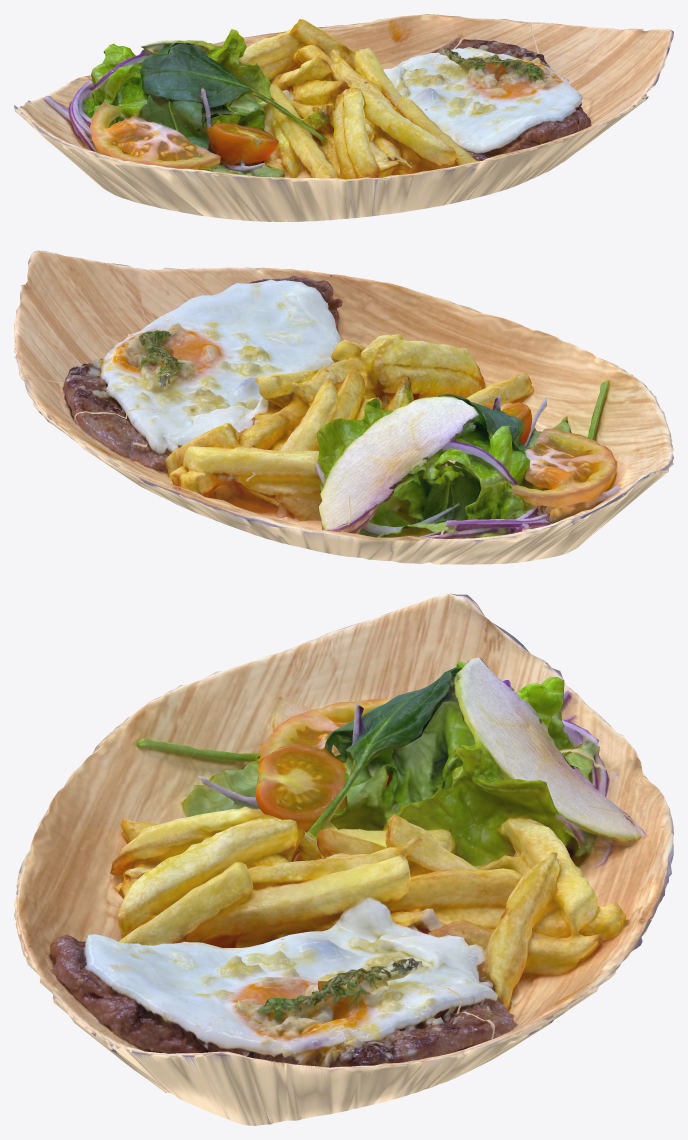
File: BitakKid.glb
3 views of the same model, one above another, from view 1: azimuth 30°, elevation 25°; view 2: azimuth 150°, elevation 25°; view 3: azimuth 270°, elevation 25° (orthographic). The views are drawn at different scales.
Parts seen in each view (by area): view 1: Mesh_0; view 2: Mesh_0; view 3: Mesh_0.
Part boxes in pixels (box(x1,y1,x2,y2)): Mesh_0: box(14, 14, 673, 221); Mesh_0: box(14, 250, 673, 564); Mesh_0: box(14, 593, 673, 1125).
Size of the model in its own units: 1.31 by 0.2494 by 0.8214.
1 material, 1 textured.
